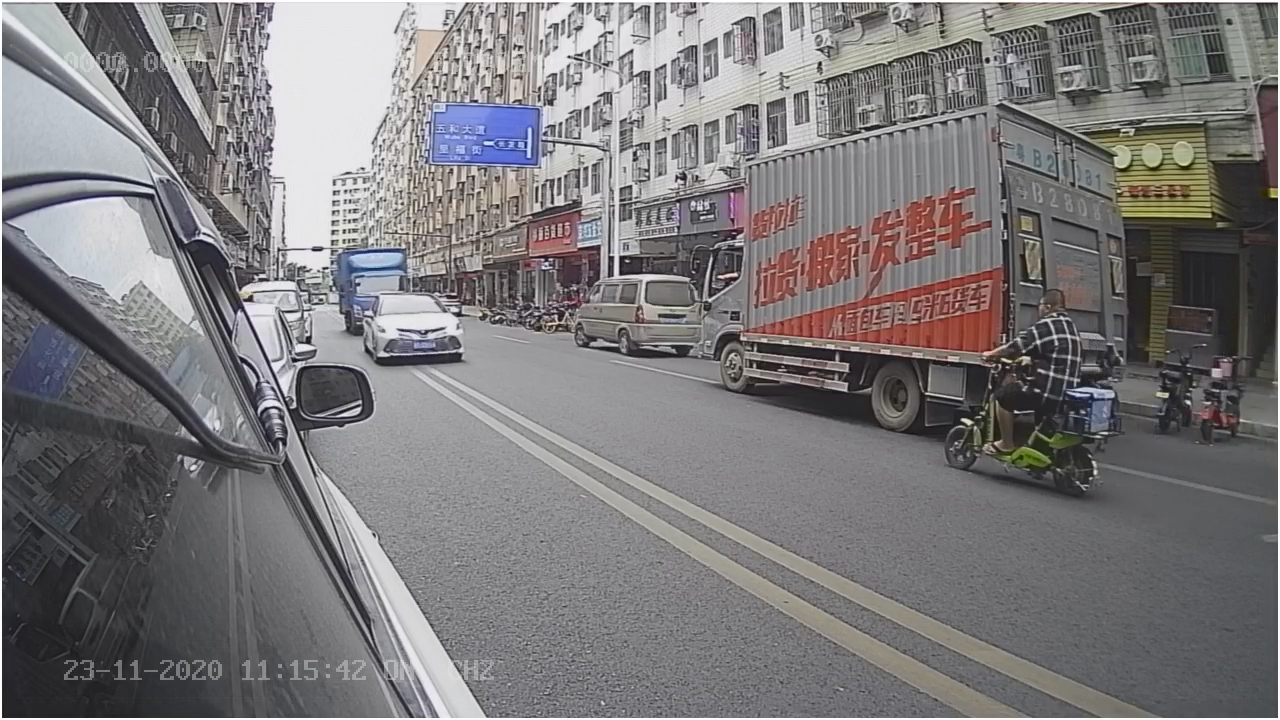person: (996, 284, 1088, 380)
